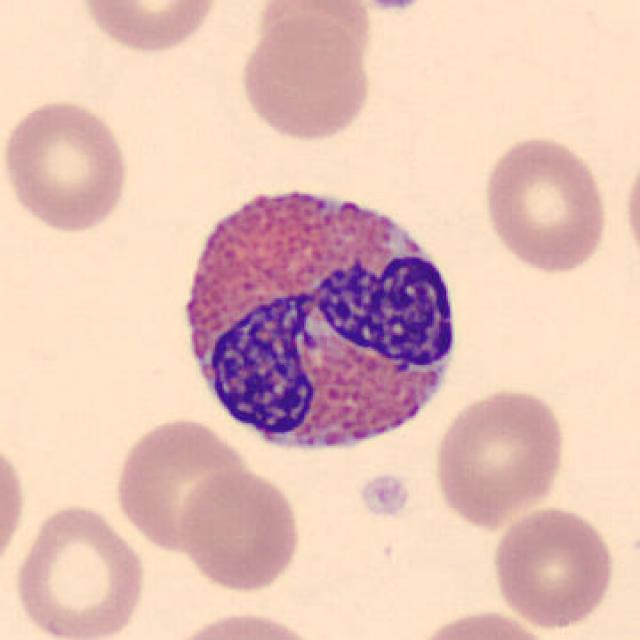Eosinophil: (163, 166, 473, 469)
Platelets: (358, 469, 414, 522), (359, 0, 430, 14)
RBC: (110, 412, 256, 556), (430, 384, 569, 529), (9, 499, 149, 640), (478, 130, 612, 277), (0, 95, 133, 236), (235, 12, 377, 144), (487, 501, 619, 629), (176, 466, 306, 594), (247, 0, 379, 78), (74, 0, 220, 56), (162, 608, 327, 640), (405, 606, 556, 640), (0, 430, 30, 580), (620, 144, 640, 276)
